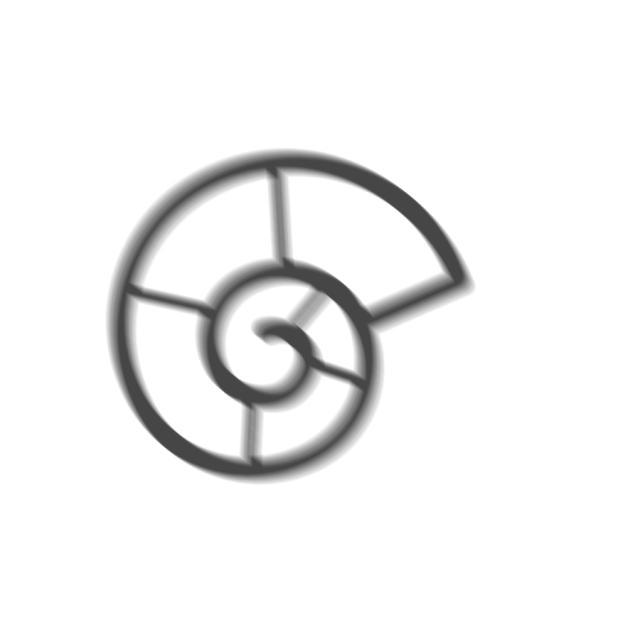fossil: (103, 144, 484, 490)
